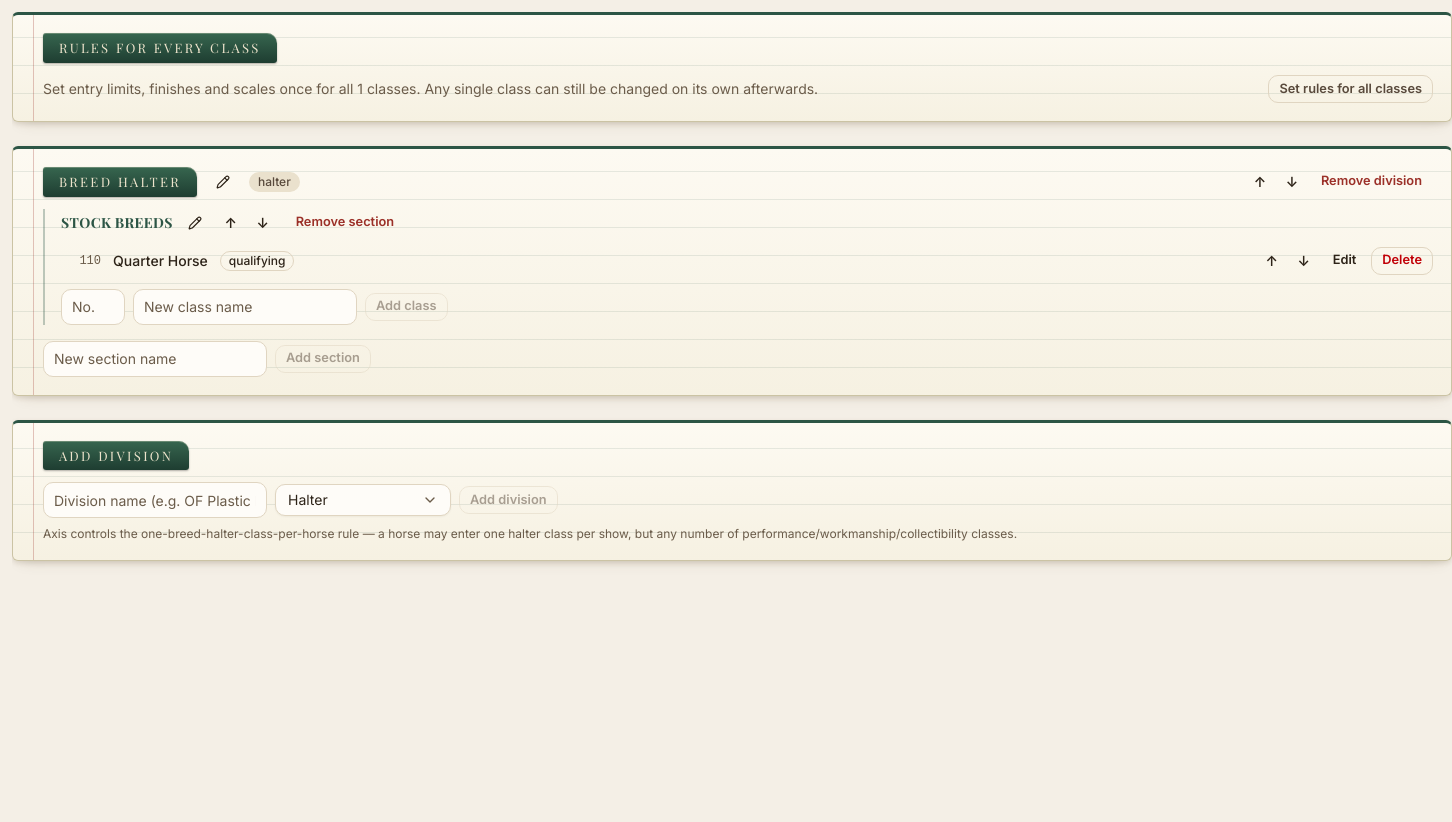
ClasslistBuilder — adding a class › surfaces the action's refusal verbatim
Type "Appaloosa" into the field labelled "New class name" at point(245, 307), box [133,289,357,325]
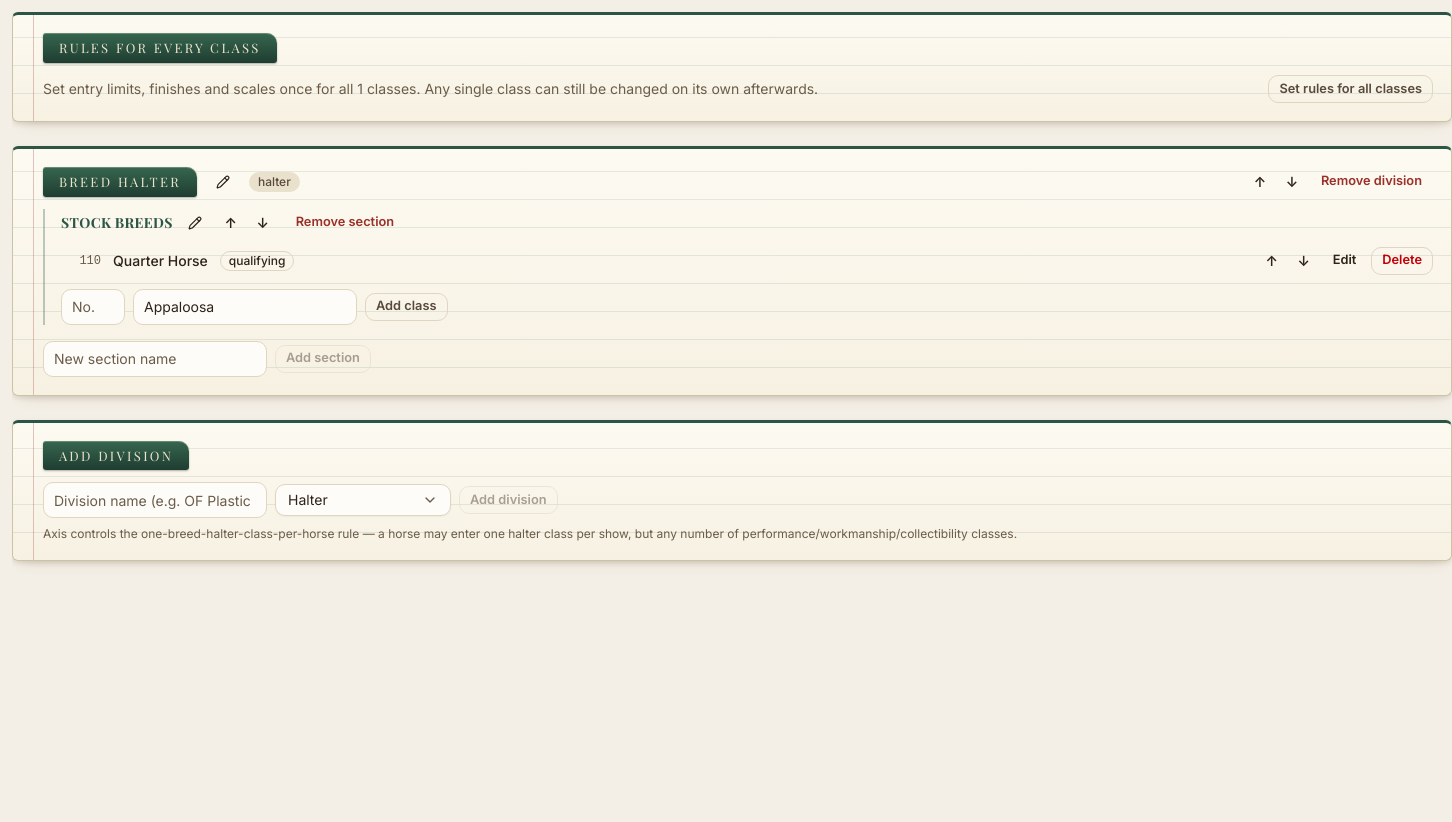
Click the button "Add class" at point(406, 307), box [365,293,448,321]
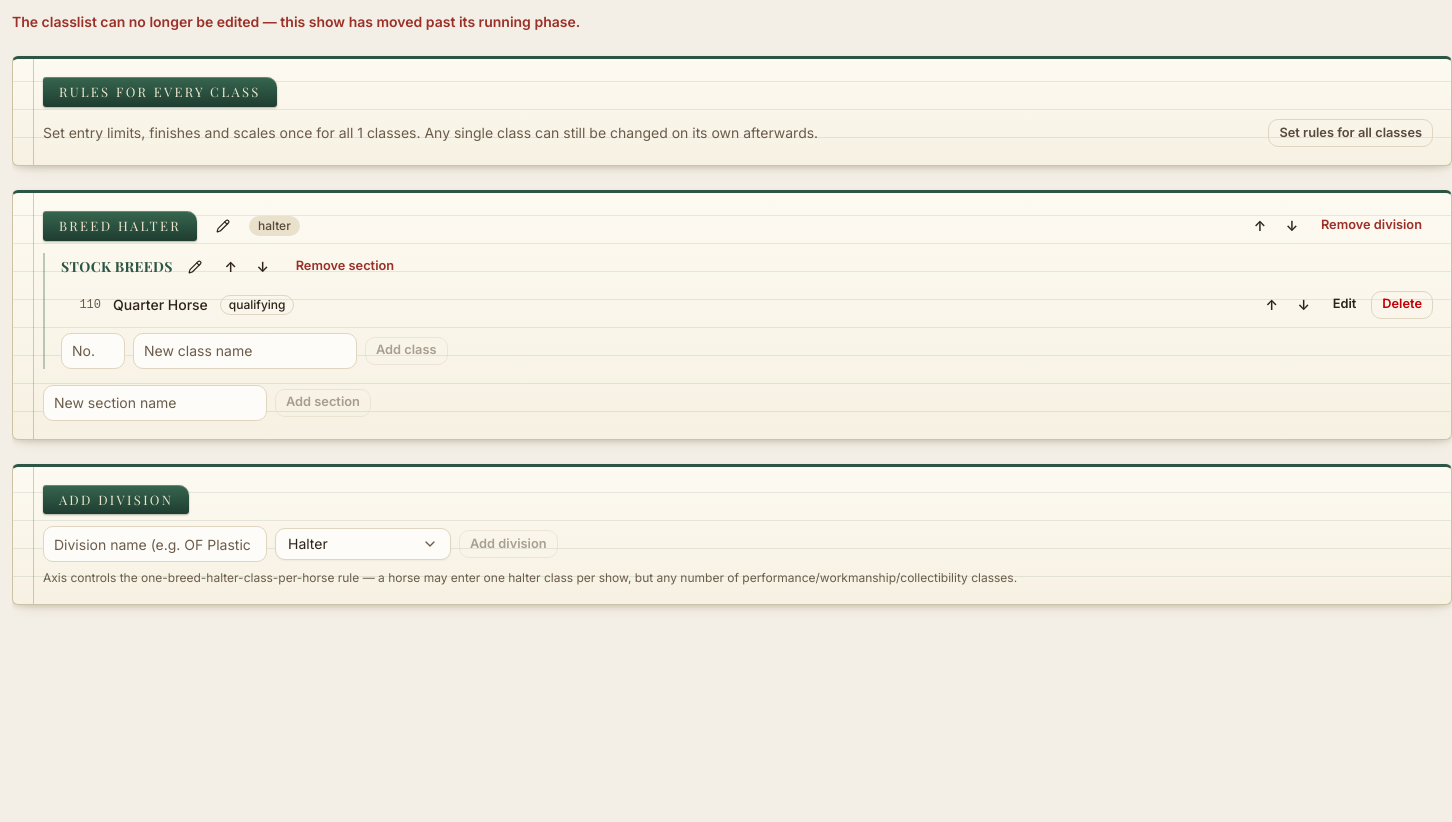
Expected: the text "can no longer be edited" is shown, [12,13,580,30]
